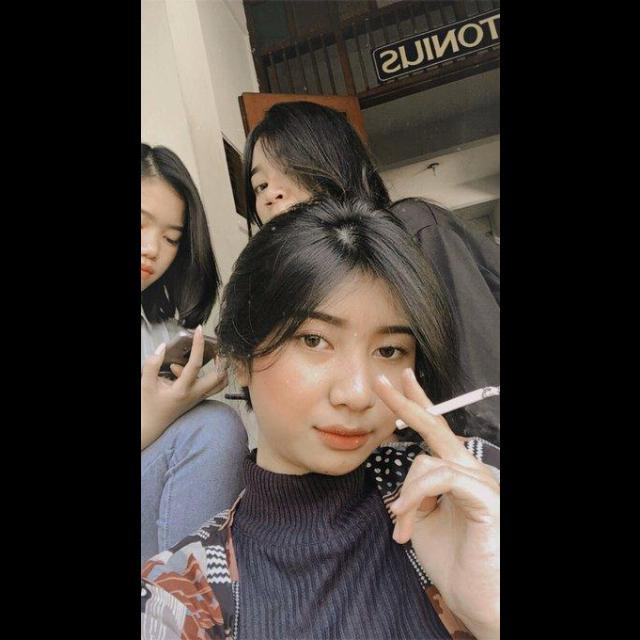rokok: (391, 385, 499, 439)
